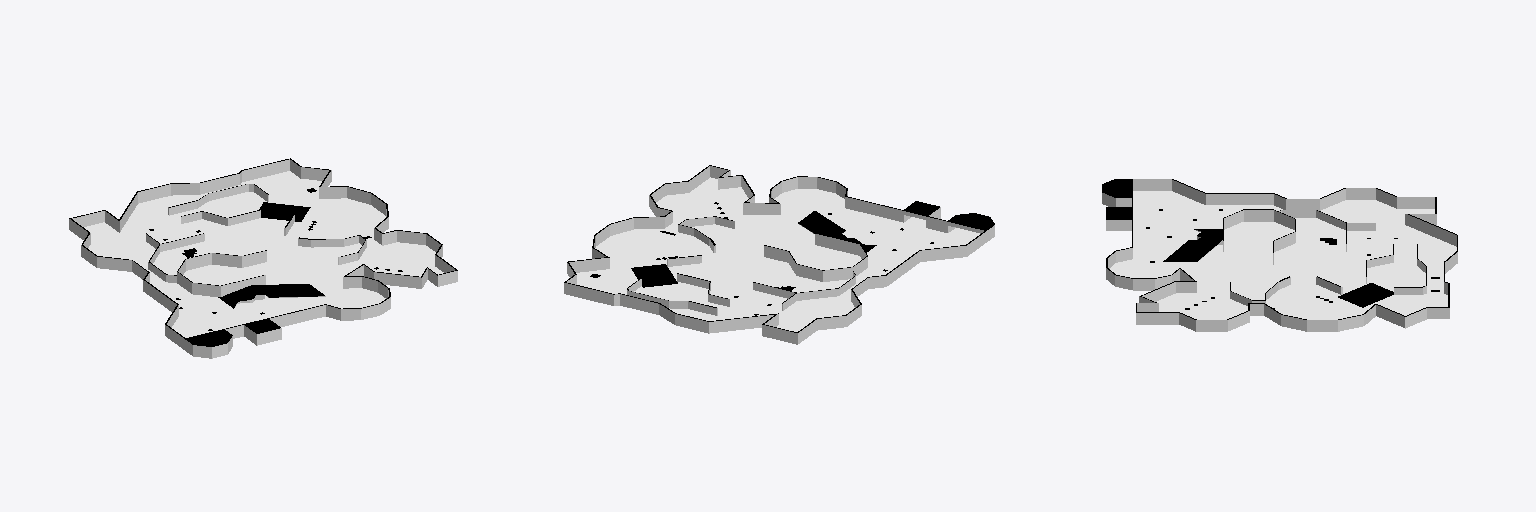
3 views of the same model, side by side, from view 1: azimuth 30°, elevation 25°; view 2: azimuth 150°, elevation 25°; view 3: azimuth 270°, elevation 25° (orthographic).
Visible parts, largest first — view 1: Rip_0001-SKP--Light, Rip_0001-SKP--Dark; view 2: Rip_0001-SKP--Light, Rip_0001-SKP--Dark; view 3: Rip_0001-SKP--Light, Rip_0001-SKP--Dark.
Part boxes in pixels (x1,y1,x2,y2): Rip_0001-SKP--Light: (69, 159, 457, 358); Rip_0001-SKP--Dark: (69, 158, 457, 346); Rip_0001-SKP--Light: (564, 166, 994, 344); Rip_0001-SKP--Dark: (564, 165, 994, 332); Rip_0001-SKP--Light: (1102, 179, 1457, 331); Rip_0001-SKP--Dark: (1102, 179, 1457, 319).
Size of the model in its own units: 30252 by 1296 by 32172.
Materials: 2 (1 with a texture image).